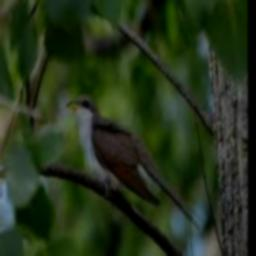Cuckoo: (65, 93, 204, 233)
